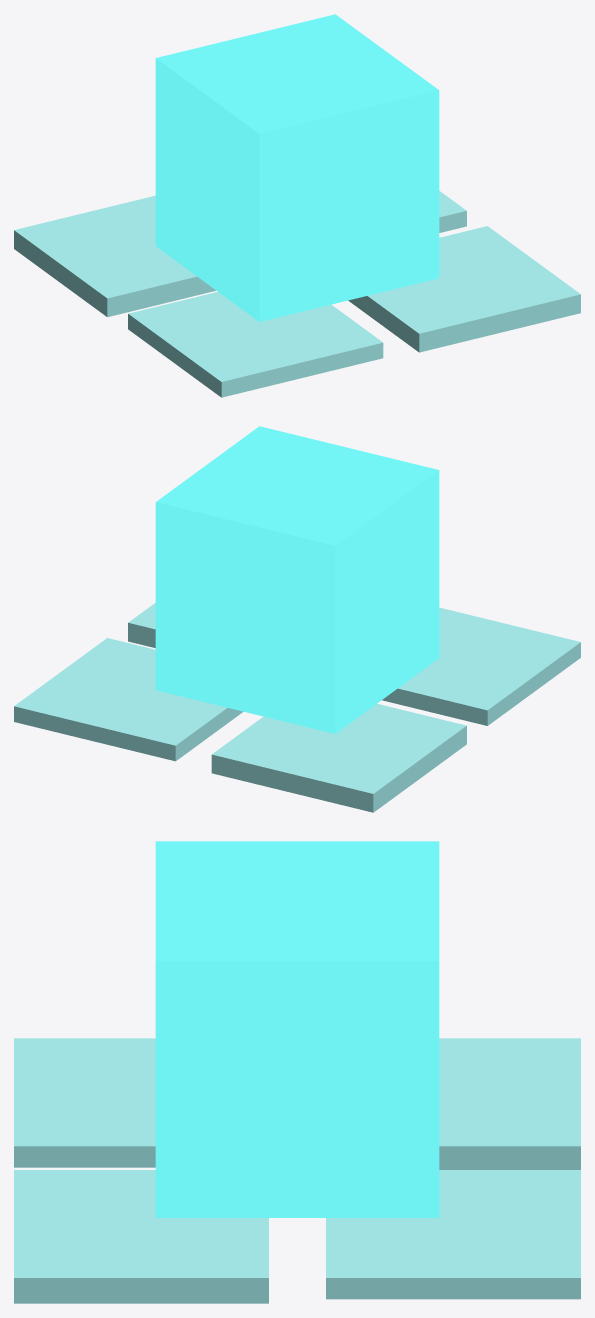
The model's file is fx_pet_glow_mote.glb.
The picture shows the model from 3 angles, top to bottom: view 1: azimuth 30°, elevation 25°; view 2: azimuth 150°, elevation 25°; view 3: azimuth 270°, elevation 25°; orthographic projection. The views are drawn at different scales.
Parts seen in each view (by area): view 1: pet_glow_mote_mote_spin_Glow1, pet_glow_mote_mote_spin_Mesh2; view 2: pet_glow_mote_mote_spin_Glow1, pet_glow_mote_mote_spin_Mesh2; view 3: pet_glow_mote_mote_spin_Glow1, pet_glow_mote_mote_spin_Mesh2.
Boxes of the visible parts, box(x1,y1,x2,y2) form: pet_glow_mote_mote_spin_Glow1: box(155, 14, 439, 321); pet_glow_mote_mote_spin_Mesh2: box(14, 191, 580, 397); pet_glow_mote_mote_spin_Glow1: box(155, 426, 439, 733); pet_glow_mote_mote_spin_Mesh2: box(14, 603, 580, 812); pet_glow_mote_mote_spin_Glow1: box(155, 841, 439, 1217); pet_glow_mote_mote_spin_Mesh2: box(14, 1038, 580, 1303).
Bounding box in the file's own units: 1.2 × 0.66 × 1.2.
